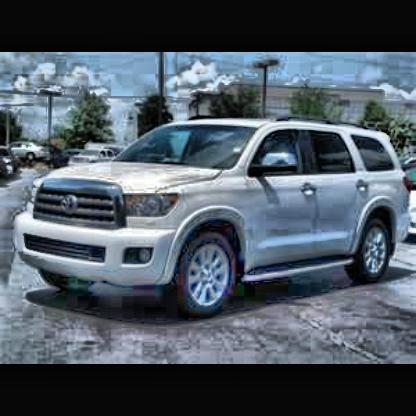Toyota Sequoia SUV 2012: (12, 119, 411, 321)
